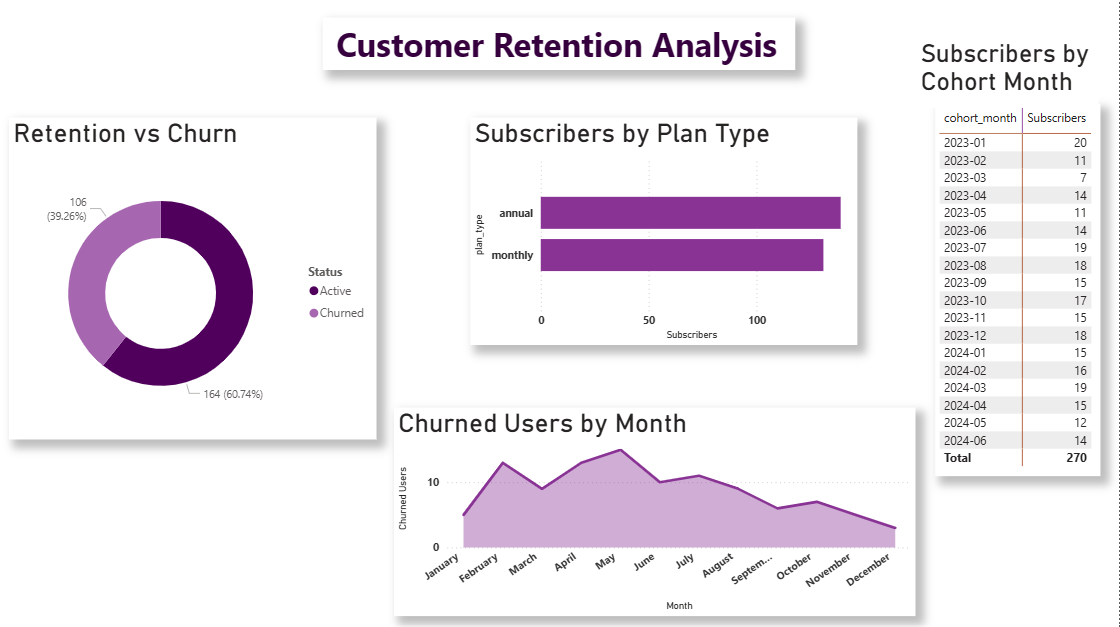

The page's visual inventory and layout, read from the dashboard file:
{"tool":"powerbi","page":{"name":"Retention Insights","canvas":[1280,720],"ordinal":2},"visuals":[{"type":"textbox","box":[370,20,540,60],"z":0},{"type":"donutChart","title":"Retention vs Churn","fields":{"Category":["subscriptions.Status"],"Y":["subscriptions.Subscribers"]},"box":[12,134,420,368],"z":1000},{"type":"barChart","title":"Subscribers by Plan Type","fields":{"Category":["subscriptions.plan_type"],"Y":["CountNonNull(subscriptions.user_id)"]},"box":[538,134,442,260],"z":2000},{"type":"pivotTable","fields":{"Rows":["subscriptions.cohort_month"],"Values":["subscriptions.Subscribers"]},"box":[1070,118.6,188.6,425.7],"z":3000},{"type":"lineChart","title":"Churned Users by Month","fields":{"Category":["subscriptions.cancel_date.Variation.Date Hierarchy.Month"],"Y":["Measures_table.Churned Users"]},"box":[452,466,596,238],"z":4000},{"type":"textbox","box":[1048,38,208,84],"z":4001}]}

Visuals, with their boxes in screenshot pixels (x1, y1, x2, y2), scaled from the page's 1280x720 canvas onto the 1120x627 screenshot:
textbox: left=324, top=17, right=796, bottom=70
"Retention vs Churn" donutChart: left=10, top=117, right=378, bottom=437
"Subscribers by Plan Type" barChart: left=471, top=117, right=858, bottom=343
pivotTable - subscriptions.cohort_month x subscriptions.Subscribers: left=936, top=103, right=1101, bottom=474
"Churned Users by Month" lineChart: left=396, top=406, right=917, bottom=613
textbox: left=917, top=33, right=1099, bottom=106
